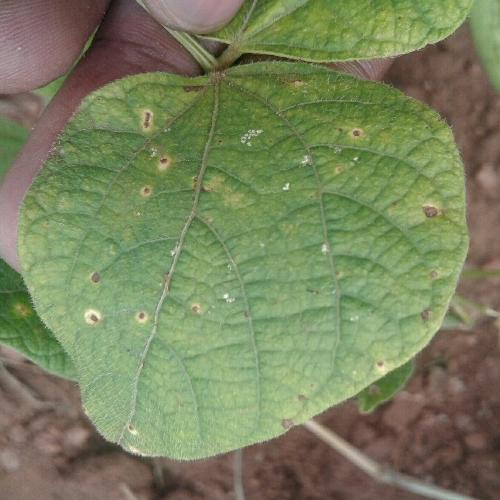embun tepung: (220, 97, 359, 283)
hawar: (128, 99, 186, 215), (52, 277, 154, 333), (403, 194, 456, 228)
